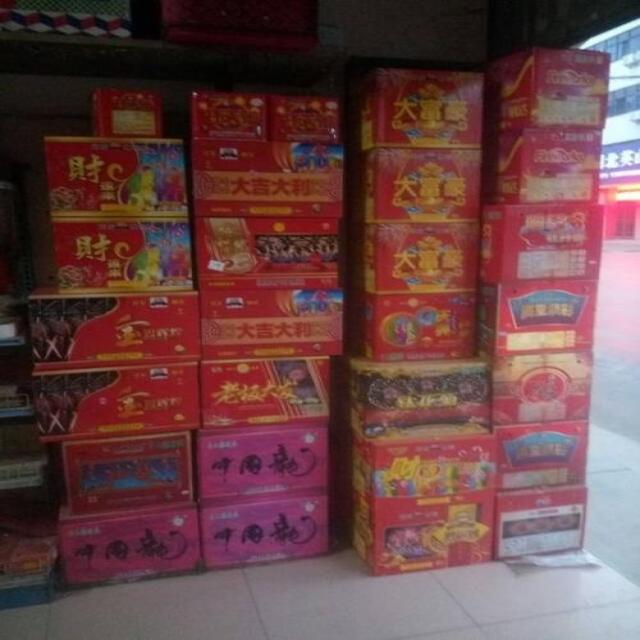box: (28, 279, 200, 369), (326, 418, 497, 508), (333, 490, 495, 578), (334, 351, 492, 441), (32, 361, 202, 444), (54, 501, 206, 593), (182, 138, 344, 218), (342, 69, 485, 154), (65, 429, 201, 518), (42, 136, 189, 217), (193, 424, 330, 510), (47, 214, 193, 294), (193, 216, 343, 290), (196, 495, 333, 576), (340, 219, 483, 295), (343, 286, 479, 365), (483, 49, 612, 132), (198, 289, 344, 362), (343, 150, 484, 224), (477, 205, 604, 285), (197, 358, 329, 431), (476, 279, 596, 356), (483, 130, 604, 206), (490, 351, 594, 429), (490, 421, 590, 495), (494, 487, 588, 562), (178, 92, 270, 139), (84, 89, 161, 136), (265, 98, 342, 142)
